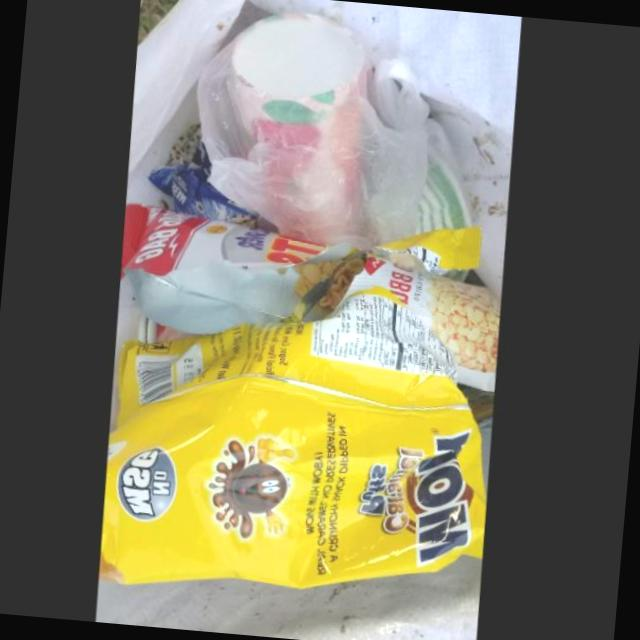bao_bi_thuc_pham: (97, 291, 487, 588), (120, 204, 501, 393)
